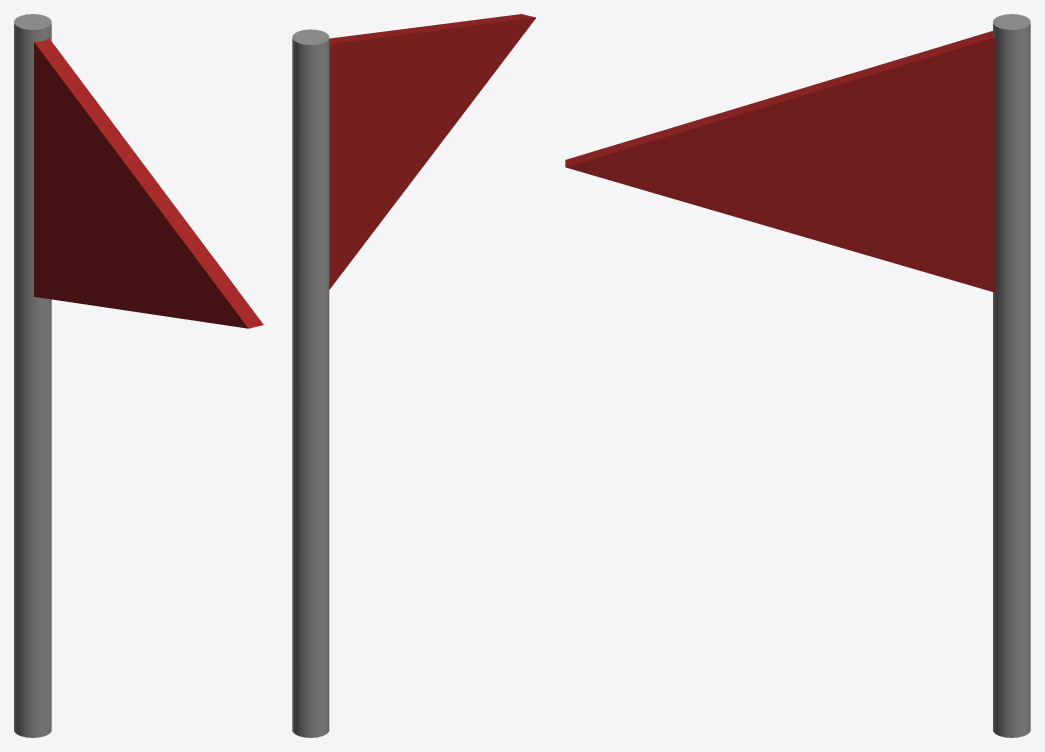
The model's file is flag.FBX.
3 views of the same model, side by side, from view 1: azimuth 30°, elevation 25°; view 2: azimuth 150°, elevation 25°; view 3: azimuth 270°, elevation 25° (orthographic). The views are drawn at different scales.
Visible parts, largest first — view 1: Line001, Cylinder001; view 2: Line001, Cylinder001; view 3: Line001, Cylinder001.
Boxes of the visible parts, bbox=[...] form: Line001: bbox=[34, 38, 263, 328]; Cylinder001: bbox=[14, 14, 51, 737]; Line001: bbox=[329, 14, 535, 289]; Cylinder001: bbox=[292, 29, 329, 737]; Line001: bbox=[565, 31, 995, 292]; Cylinder001: bbox=[993, 14, 1030, 737].
Size of the model in its own units: 5.41 by 111 by 66.09.
